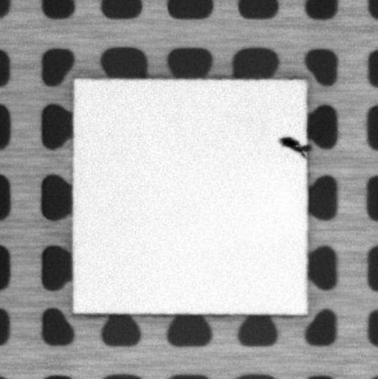DIE_INK: (279, 132, 309, 159)
